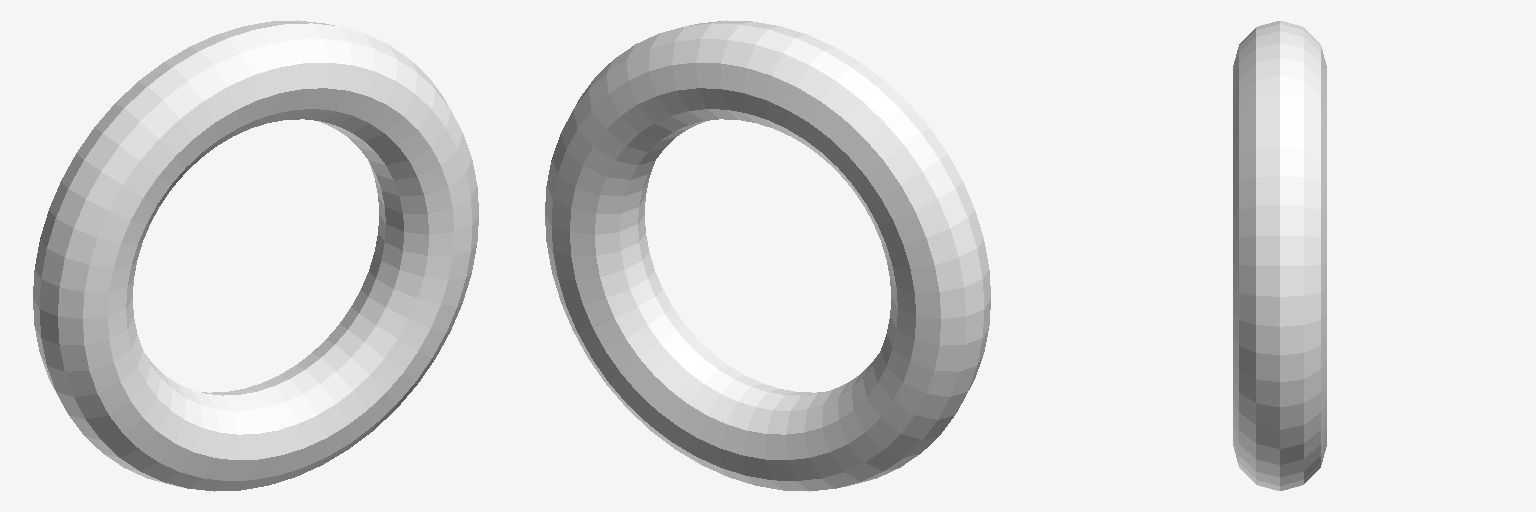
The robot description file, URDF, robot "cube.urdf":
<?xml version="1.0" ?>
<robot name="cube.urdf">
  <link name="baseLink">
    <contact>
      <lateral_friction value="1.0"/>
      <rolling_friction value="1.0"/>
      <inertia_scaling value="3.0"/>
      <contact_cfm value="0.0"/>
      <contact_erp value="1.0"/>
    </contact>
    <inertial>
      <origin rpy="0 0 0" xyz="0 0 0"/>
       <mass value=".1"/>
       <inertia ixx="1" ixy="0" ixz="0" iyy="1" iyz="0" izz="1"/>
    </inertial>
    <visual>
      <origin rpy="0 0 0" xyz="0 0 0"/>
      <geometry>
				<mesh filename="torus.obj" scale=".3 .3 .3"/>
      </geometry>
       <material name="white">
        <color rgba="1 1 1 1"/>
      </material>
    </visual>
    <collision>
      <origin rpy="0 0 0" xyz="0 0 0"/>
      <geometry>
	 	<mesh filename="torus.obj" scale=".3 .3 .3"/>
      </geometry>
    </collision>
  </link>
</robot>


--- Render facts (derived) ---
Views: 3 orthographic renders of the robot side by side, from view 1: azimuth 30°, elevation 25°; view 2: azimuth 150°, elevation 25°; view 3: azimuth 270°, elevation 25°.
Model cube.urdf with 1 links and 0 joints (none), rooted at baseLink, posed all joints at 0.
Visible links, largest first — view 1: baseLink; view 2: baseLink; view 3: baseLink.
Link boxes in pixels (bbox=[...]): baseLink: bbox=[33, 20, 478, 491]; baseLink: bbox=[545, 20, 990, 491]; baseLink: bbox=[1233, 21, 1326, 490].
Size in the robot's own frame: 0.75 by 0.15 by 0.75 metres.
1 mesh visuals loaded from 1 distinct referenced files (1 OBJ).